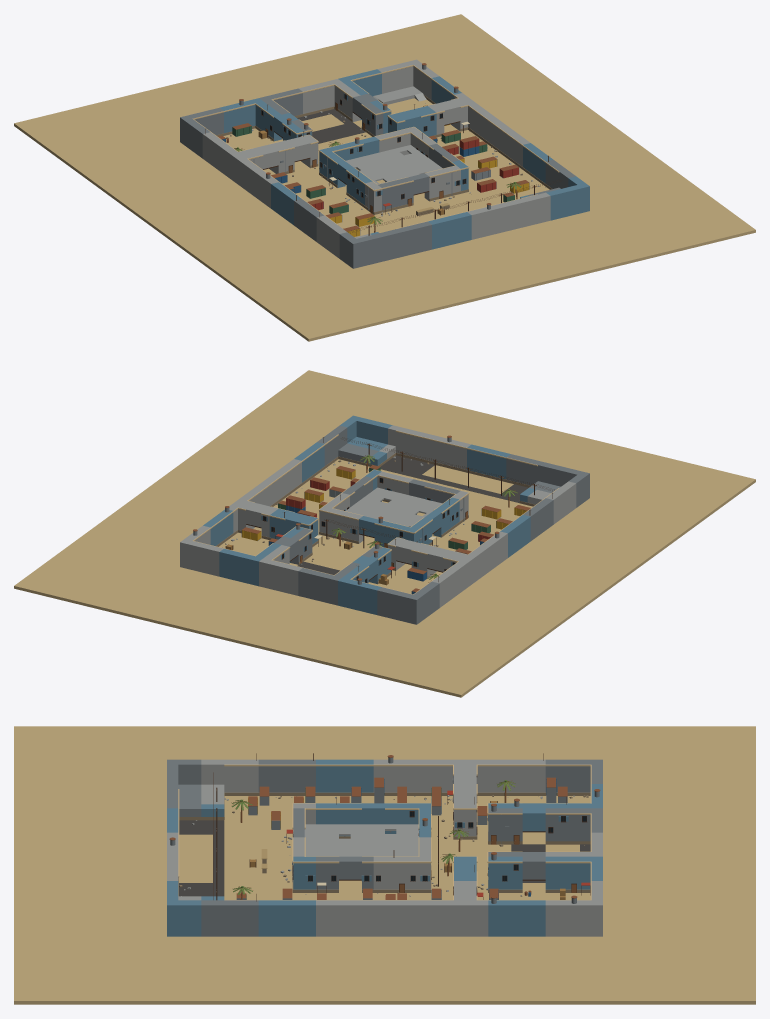
Rendered from harbor.glb.
The picture shows the model from 3 angles, top to bottom: view 1: azimuth 30°, elevation 25°; view 2: azimuth 150°, elevation 25°; view 3: azimuth 270°, elevation 25°; orthographic projection. The views are drawn at different scales.
Parts seen in each view (by area): view 1: world_sand_ground, world_concrete, world_plaster_blue, world_metal, decor_sand_wall, decor_rust_metal, decor_stone_base, decor_wood_dark, decor_asphalt, world_container_green, world_container_red, world_container_yellow; view 2: world_sand_ground, world_concrete, world_plaster_blue, world_metal, decor_sand_wall, decor_asphalt, decor_stone_base, decor_rust_metal, decor_wood_dark, world_container_yellow; view 3: world_sand_ground, world_concrete, world_plaster_blue, world_metal, decor_sand_wall, decor_stone_base, decor_rust_metal, decor_asphalt, decor_metal, decor_wood_dark, decor_wood, decor_foliage.
Boxes of the visible parts, x1,y1,x2,y2 form: world_sand_ground: (14,14,755,341); world_concrete: (202,59,550,258); world_plaster_blue: (220,69,589,249); world_metal: (180,88,575,268); decor_sand_wall: (192,65,559,228); decor_rust_metal: (218,63,529,231); decor_stone_base: (196,67,552,214); decor_wood_dark: (205,94,560,233); decor_asphalt: (297,109,365,143); world_container_green: (232,126,514,213); world_container_red: (311,139,518,210); world_container_yellow: (329,124,529,236); world_sand_ground: (14,370,755,697); world_concrete: (180,425,576,607); world_plaster_blue: (203,415,536,614); world_metal: (274,425,589,624); decor_sand_wall: (193,430,558,594); decor_asphalt: (297,455,528,574); decor_stone_base: (216,433,535,583); decor_rust_metal: (193,435,530,591); decor_wood_dark: (225,437,554,582); world_container_yellow: (242,469,526,540); world_sand_ground: (14,726,755,1004); world_concrete: (167,759,602,936); world_plaster_blue: (167,759,602,936); world_metal: (167,759,602,936); decor_sand_wall: (178,764,591,900); decor_stone_base: (178,775,590,896); decor_rust_metal: (169,755,600,899); decor_asphalt: (179,820,590,896); decor_metal: (170,757,599,903); decor_wood_dark: (213,753,590,901); decor_wood: (216,780,576,899); decor_foliage: (231,780,515,894).
Size of the model in its own units: 170 by 12.2 by 194.
